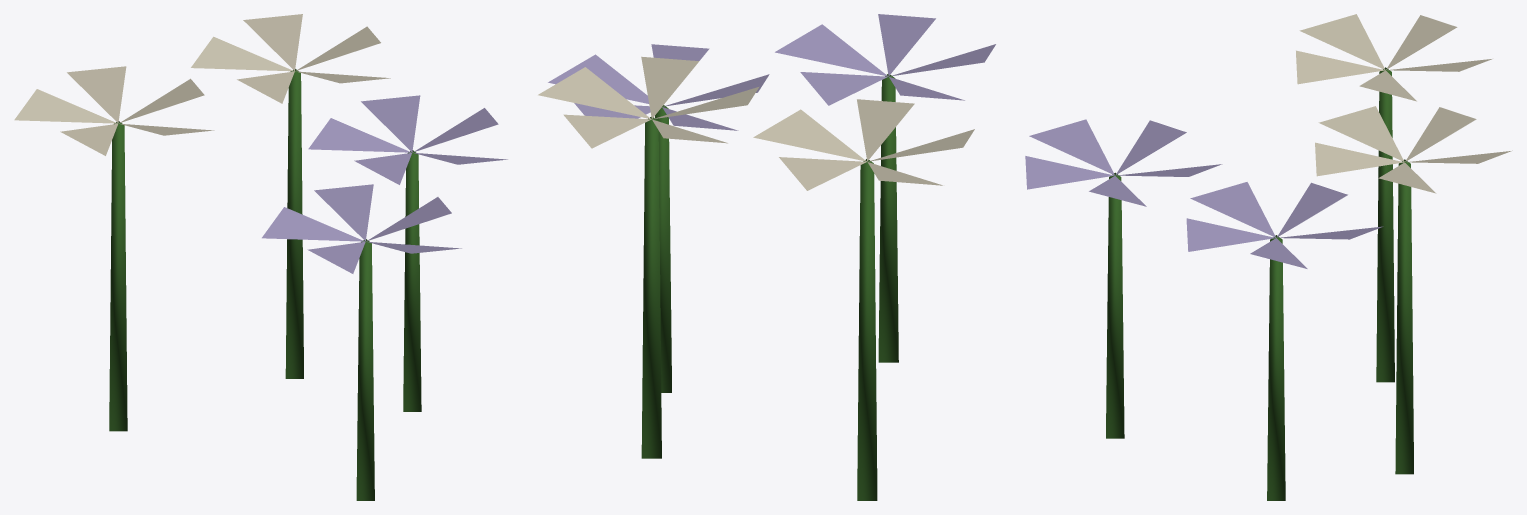
The model's file is flower.glb.
The picture shows the model from 3 angles, left to right: view 1: azimuth 30°, elevation 25°; view 2: azimuth 150°, elevation 25°; view 3: azimuth 270°, elevation 25°; orthographic projection. The views are drawn at different scales.
Visible parts, largest first — view 1: Prop_flower; view 2: Prop_flower; view 3: Prop_flower.
Part boxes in pixels (x1,y1,x2,y2): Prop_flower: (14,14,507,500); Prop_flower: (538,14,995,500); Prop_flower: (1025,14,1512,500).
Size of the model in its own units: 0.541 by 0.405 by 0.5421.
